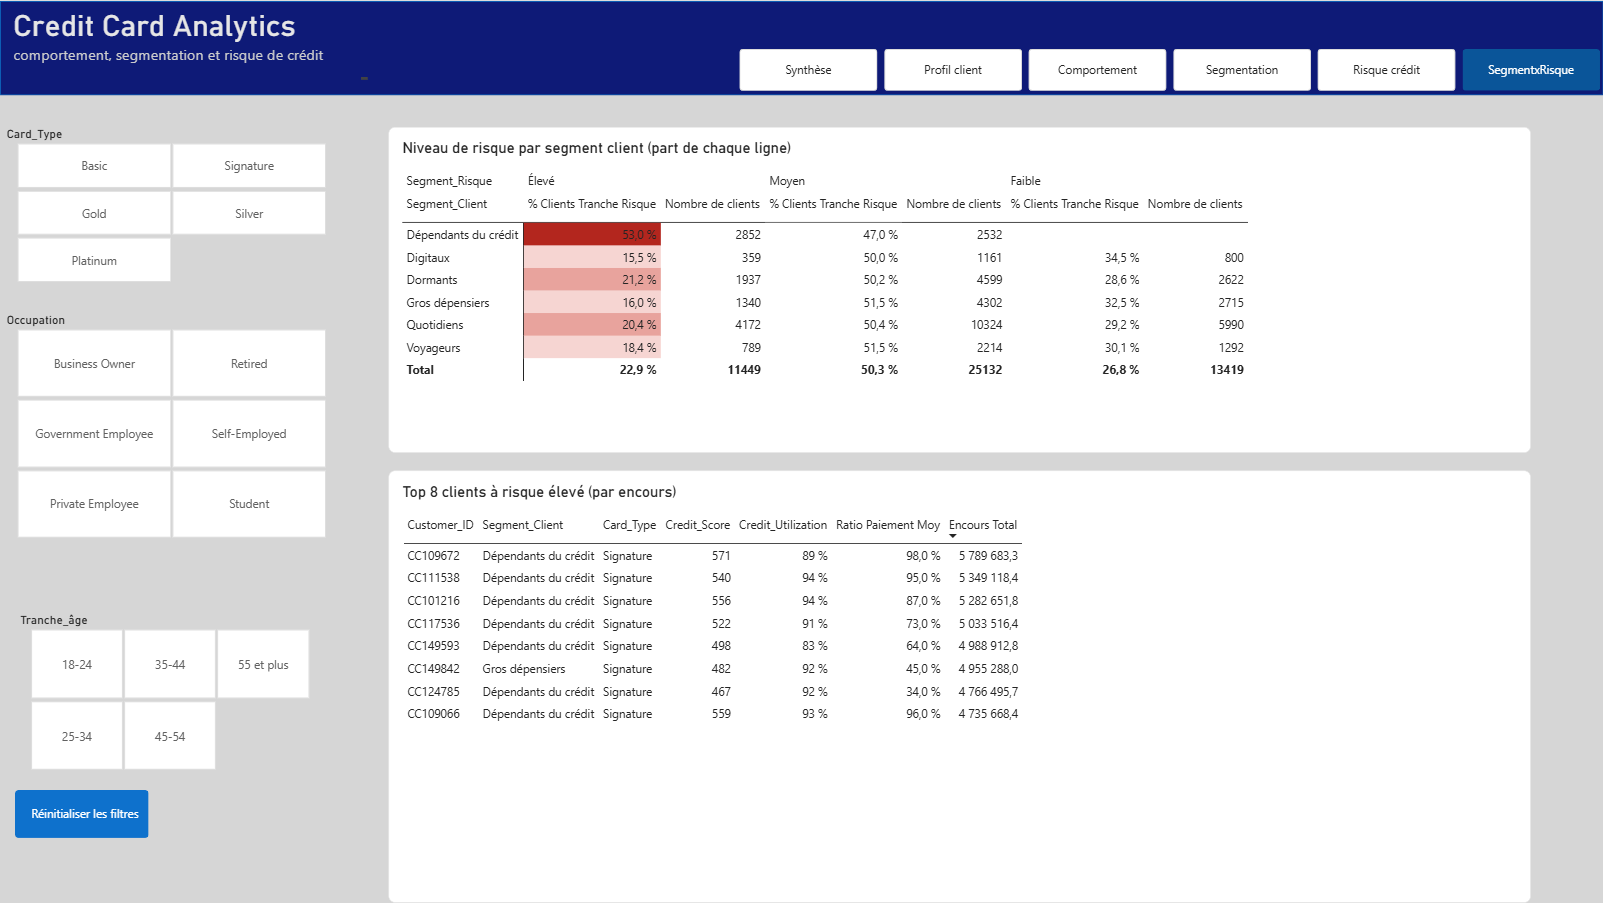

The dashboard page shown, as its layout file describes it:
{"tool":"powerbi","page":{"name":"SegmentxRisque","canvas":[1920,1080],"ordinal":5},"visuals":[{"type":"shape","title":"Credit Card Analytics ","box":[0,0,1919.3,112.9],"z":0},{"type":"slicer","fields":{"Values":["Data.Card_Type"]},"box":[0,151.2,409,187.5],"z":1000},{"type":"slicer","fields":{"Values":["Data.Occupation"]},"box":[0,372.8,409,270.5],"z":2000},{"type":"slicer","fields":{"Values":["Data.Tranche_âge"]},"box":[17,732.8,372.8,189.6],"z":3000},{"type":"textbox","title":"Credit Card Analytics ","box":[17,8.5,423.9,85.2],"z":4000},{"type":"pivotTable","title":"Niveau de risque par segment client (part de chaque ligne)","fields":{"Columns":["Data.Segment_Risque"],"Rows":["Data.Segment_Client"],"Values":["Mesures.% Clients Tranche Risque","Mesures.Nombre de clients"]},"box":[465,150,1367.5,390],"z":5000},{"type":"tableEx","title":"Top 8 clients à risque élevé (par encours)","fields":{"Values":["Data.Customer_ID","Data.Segment_Client","Data.Card_Type","Data.Credit_Score","Data.Credit_Utilization","Mesures.Ratio Paiement Moy","Mesures.Encours Total"]},"box":[465,562.5,1367.5,517.5],"z":6000},{"type":"pageNavigator","box":[885,57.5,1035,50],"z":6001},{"type":"actionButton","box":[17.5,945,160,57.5],"z":6002}]}

Visuals, with their boxes in screenshot pixels (x1, y1, x2, y2), scaled from the page's 1920x1080 canvas onto the 1603x903 screenshot:
"Credit Card Analytics " shape: <bbox>0, 0, 1602, 94</bbox>
slicer - Data.Card_Type: <bbox>0, 126, 341, 283</bbox>
slicer - Data.Occupation: <bbox>0, 312, 341, 538</bbox>
slicer - Data.Tranche_âge: <bbox>14, 613, 325, 771</bbox>
"Credit Card Analytics " textbox: <bbox>14, 7, 368, 78</bbox>
"Niveau de risque par segment client (part de chaque ligne)" pivotTable: <bbox>388, 125, 1530, 452</bbox>
"Top 8 clients à risque élevé (par encours)" tableEx: <bbox>388, 470, 1530, 902</bbox>
pageNavigator: <bbox>739, 48, 1602, 90</bbox>
actionButton: <bbox>15, 790, 148, 838</bbox>
